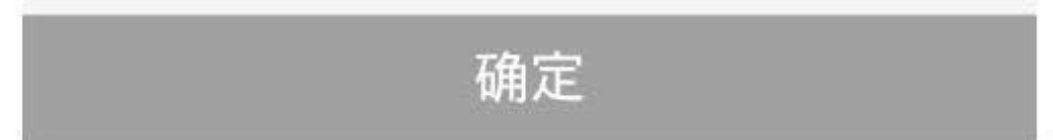Button: (1, 1, 1052, 139)
